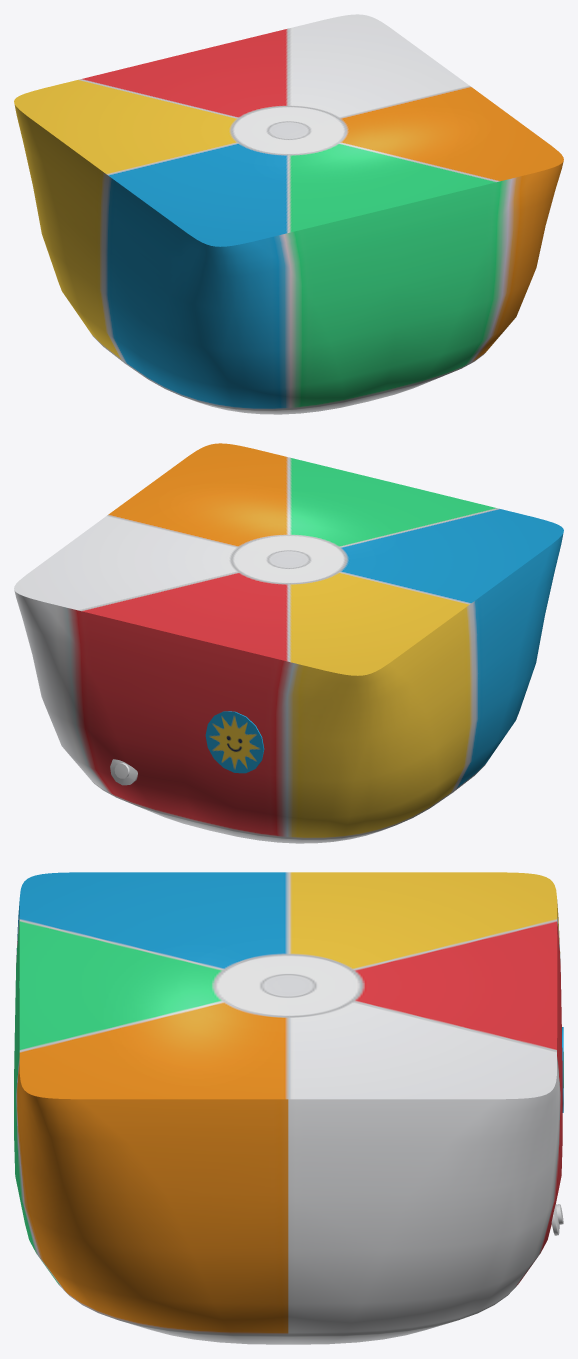
The model's file is pool_beach_ball.glb.
The picture shows the model from 3 angles, top to bottom: view 1: azimuth 30°, elevation 25°; view 2: azimuth 150°, elevation 25°; view 3: azimuth 270°, elevation 25°; orthographic projection. The views are drawn at different scales.
Parts seen in each view (by area): view 1: pool_beach_ball_LOD0; view 2: pool_beach_ball_LOD0; view 3: pool_beach_ball_LOD0.
Boxes of the visible parts, box(x1,y1,x2,y2) form: pool_beach_ball_LOD0: box(14, 14, 563, 414); pool_beach_ball_LOD0: box(14, 443, 563, 843); pool_beach_ball_LOD0: box(14, 872, 563, 1344).
Bounding box in the file's own units: 7 × 4 × 7.02.
Materials: 1 (1 with a texture image).
